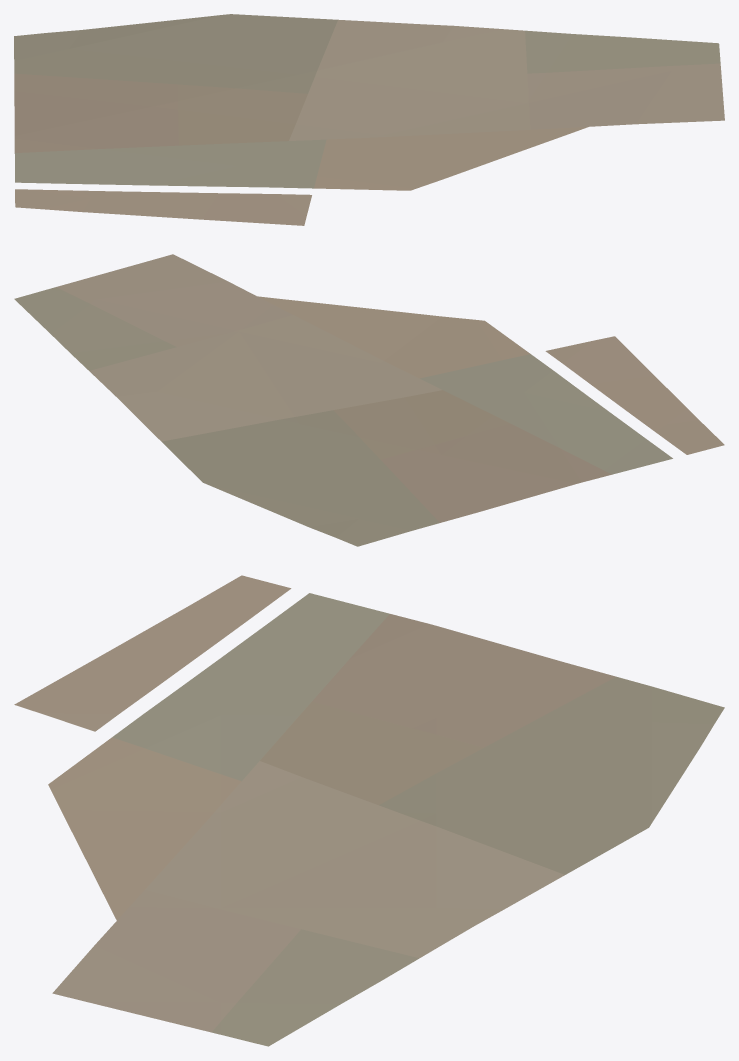
File: farm_21_17_soil.glb
3 renders of one model, top to bottom at view 1: azimuth 30°, elevation 25°; view 2: azimuth 150°, elevation 25°; view 3: azimuth 270°, elevation 25°, orthographic. The views are drawn at different scales.
Parts seen in each view (by area): view 1: geometry_0; view 2: geometry_0; view 3: geometry_0.
Part boxes in pixels (box(x1,y1,x2,y2)): geometry_0: box(14, 14, 724, 225); geometry_0: box(14, 254, 724, 546); geometry_0: box(14, 575, 724, 1046).
Bounding box in the file's own units: 394 × 9.32 × 264.
